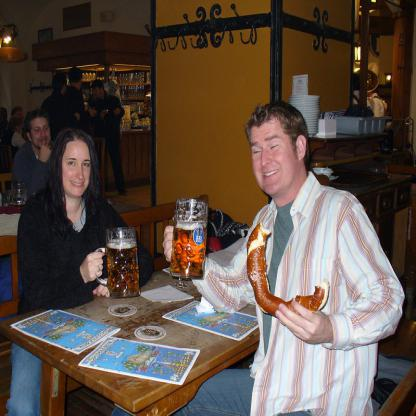drinking: (94, 227, 140, 298), (170, 198, 209, 280)
